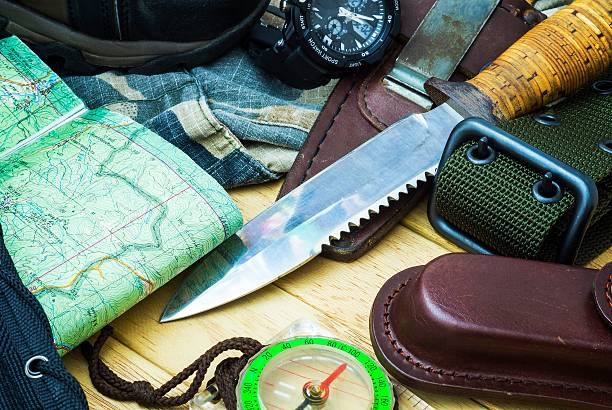knife: (155, 0, 612, 324)
